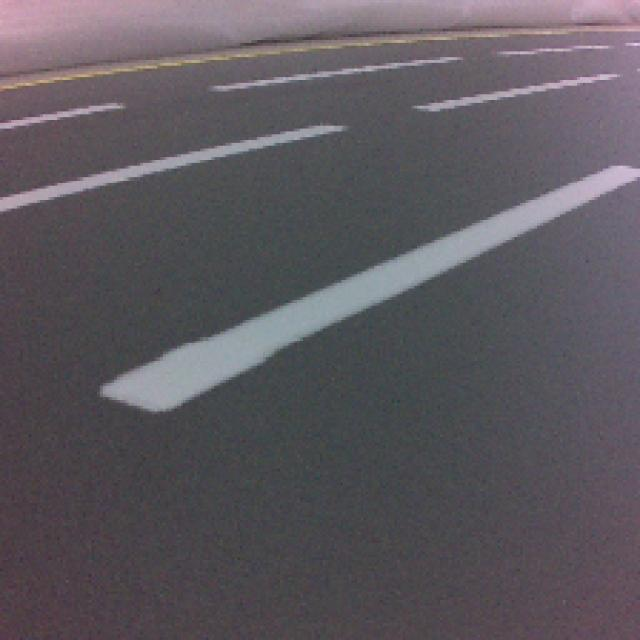Guard rail: (103, 163, 640, 410)
